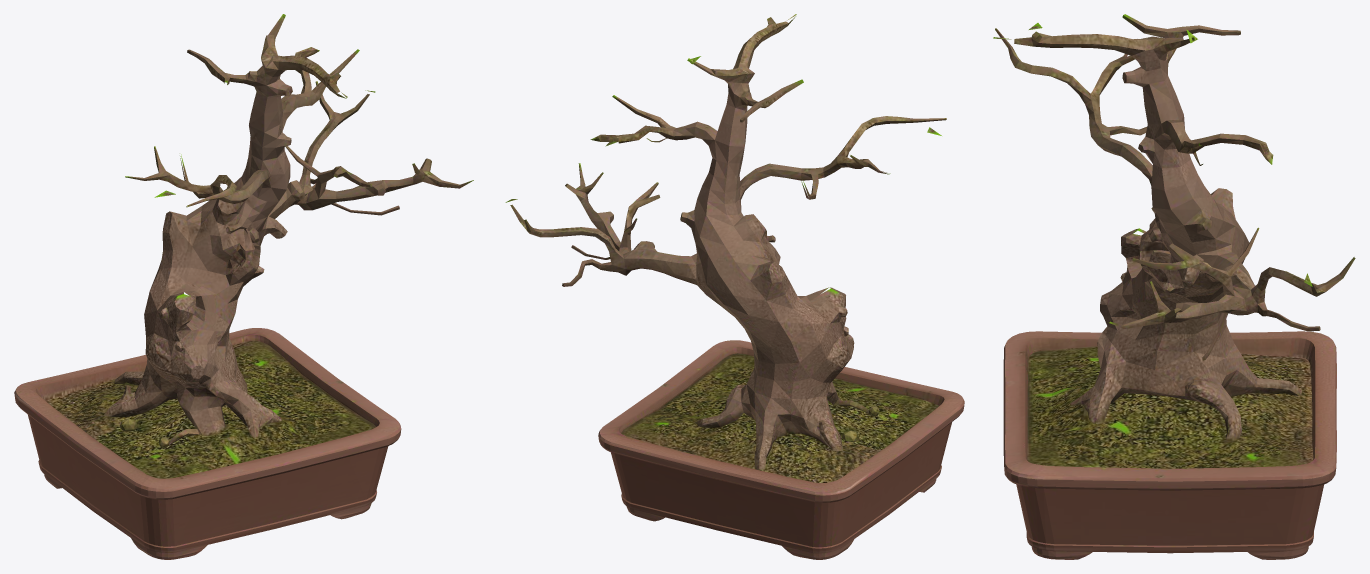
The model's file is wood.glb.
3 renders of one model, left to right at view 1: azimuth 30°, elevation 25°; view 2: azimuth 150°, elevation 25°; view 3: azimuth 270°, elevation 25°, orthographic. The views are drawn at different scales.
Visible parts, largest first — view 1: geometry_0; view 2: geometry_0; view 3: geometry_0.
Boxes of the visible parts, x1,y1,x2,y2 form: geometry_0: (14,14,473,559); geometry_0: (505,14,964,559); geometry_0: (993,14,1355,559).
Size of the model in its own units: 0.3168 by 0.3678 by 0.2347.
1 material, 1 textured.
